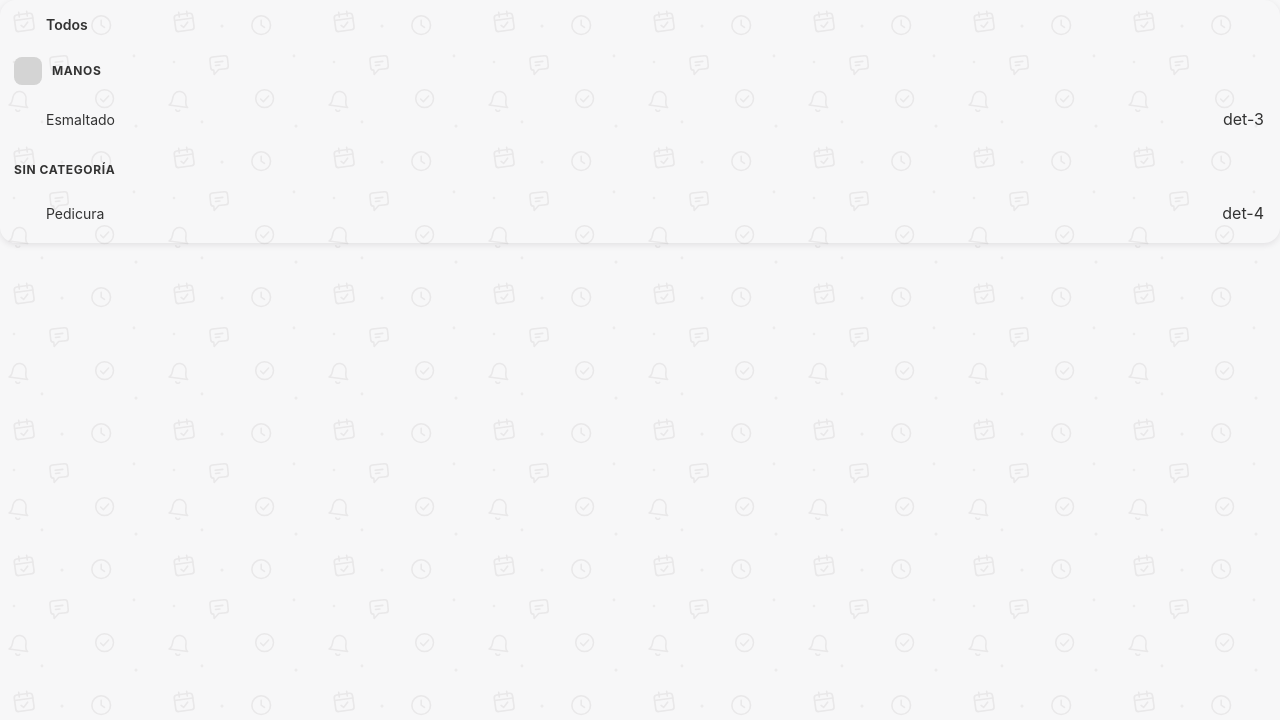
Test: ListaServiciosBase › con grupos: encabezado por categoría, "Sin categoría" y colapso independiente
expect the text "Manos" is shown: met, box [52,63,101,78]
expect the text "Sin categoría" is shown: met, box [14,162,115,177]
Click the button with aria-label "Contraer categoría" at (77, 70), box [14,57,1266,85]
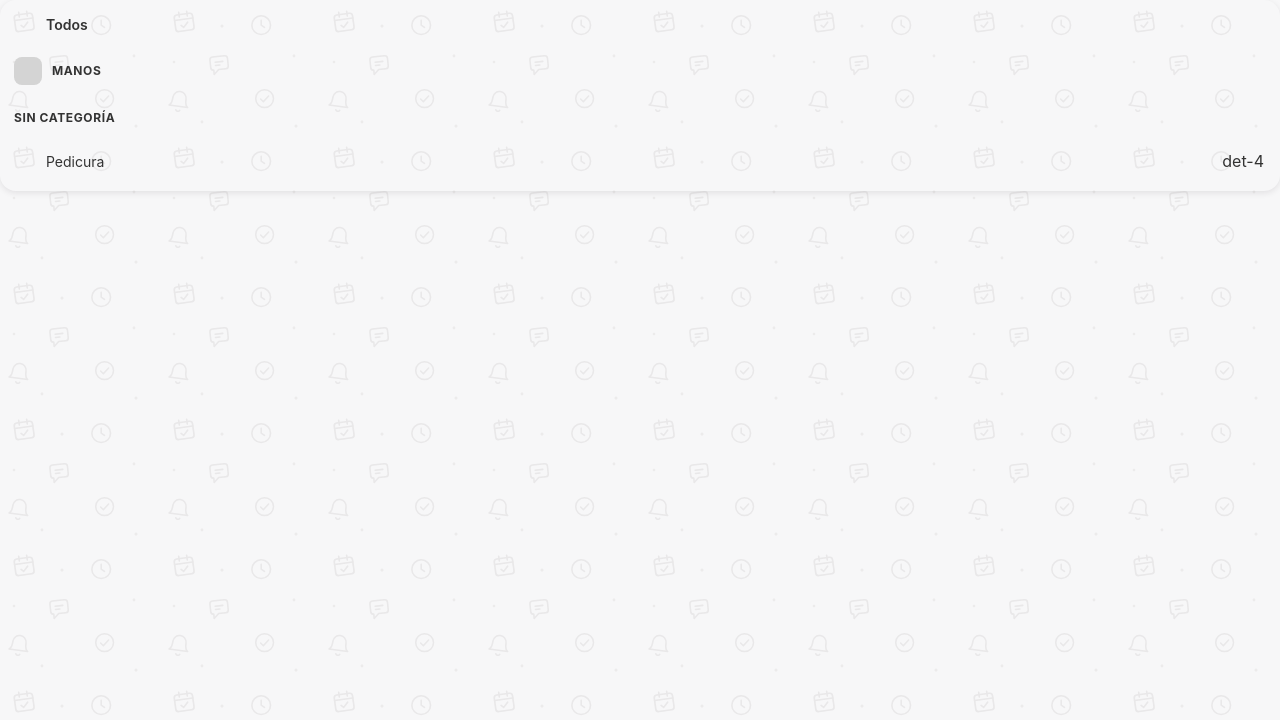
expect the radio button labelled "Pedicura det-4" is shown: met, box [8,139,1272,183]
expect the radio button labelled "Esmaltado" is gone: met
